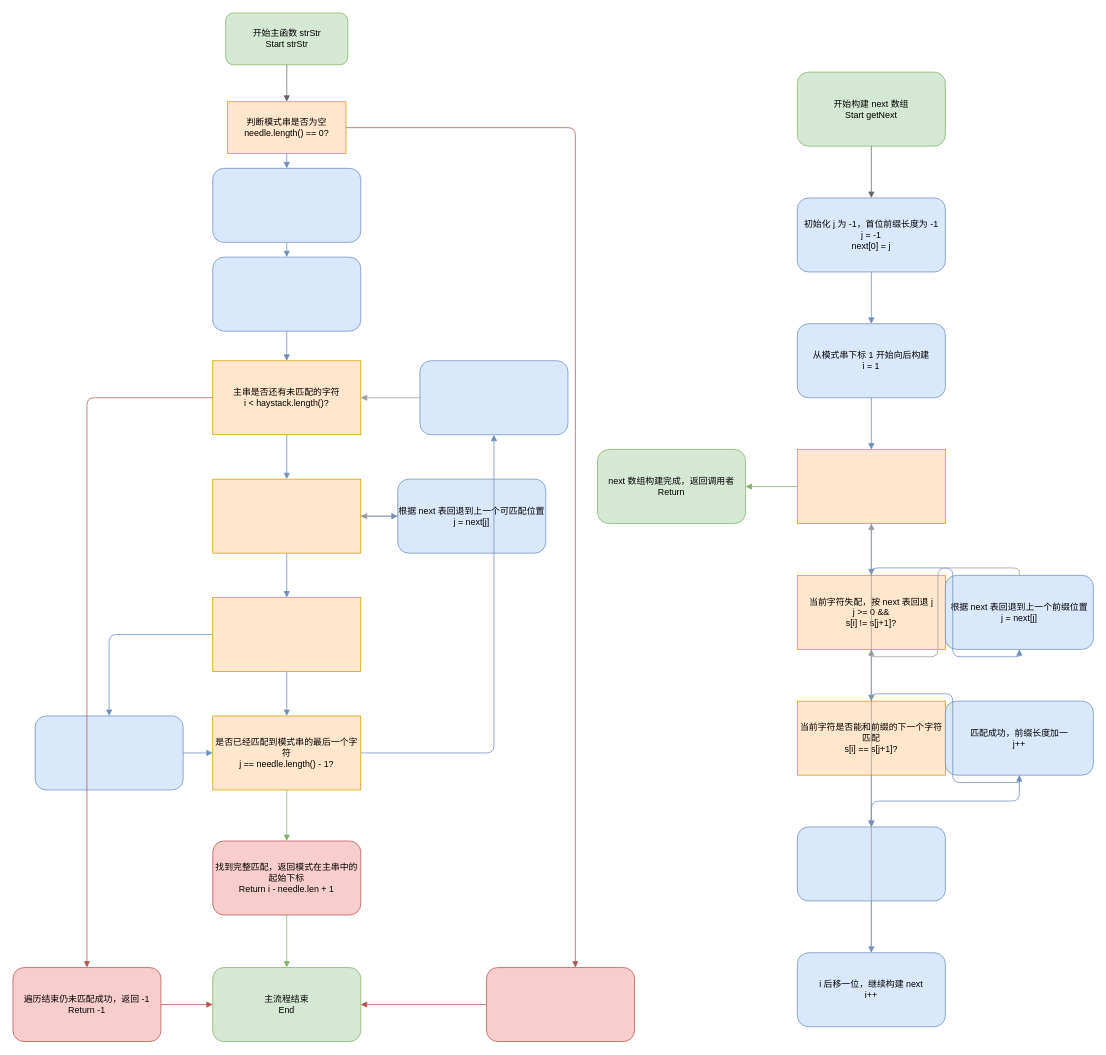
Some shapes in this 1106 by 1055 pixel diagram are drawn without their labels. The box of each missing label's shape, as (x1, y1, x2, y2) in pixels:
初始化 next 数组并构建部分匹配表 Init next[] Call getNext(next, needle): (212, 168, 361, 242)
初始化匹配指针位置 j = -1 i = 0: (212, 256, 361, 331)
匹配成功，模式串指针后移一位 j++: (34, 715, 183, 790)
当前主串索引后移一位，继续尝试匹配 i++: (419, 360, 568, 435)
当前字符失配，利用 next 表回退 j j >= 0 && haystack[i] != needle[j+1]?: (212, 478, 361, 553)
当前字符是否匹配下一个模式字符 haystack[i] == needle[j+1]?: (212, 597, 361, 672)
是否还有字符需要更新 next 值 i < s.length()?: (797, 449, 945, 524)
空模式串，直接返回起始下标 0 Return 0: (486, 967, 635, 1042)
记录当前位置 i 的最长相等前后缀长度 next[i] = j: (797, 826, 945, 901)
